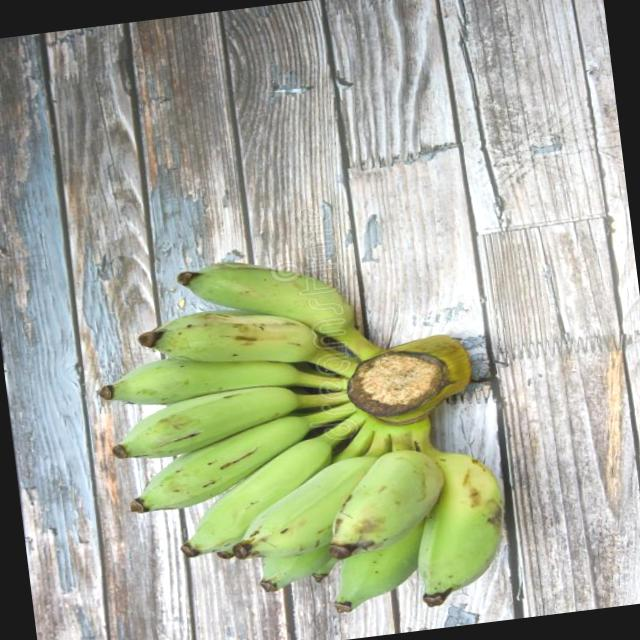banana: (75, 226, 522, 640)
